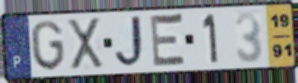1: (201, 13, 220, 65)
3: (233, 10, 264, 65)
E: (150, 12, 189, 69)
G: (29, 19, 67, 73)
J: (113, 14, 149, 71)
X: (65, 16, 106, 72)
